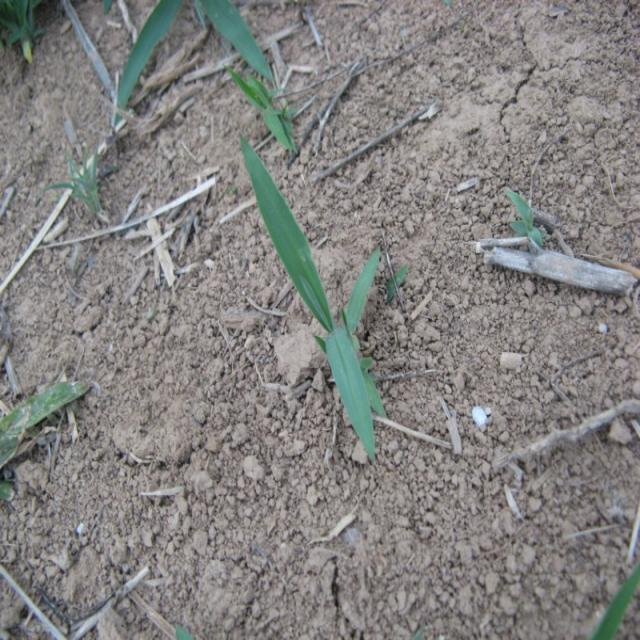bg: (235, 115, 410, 472)
